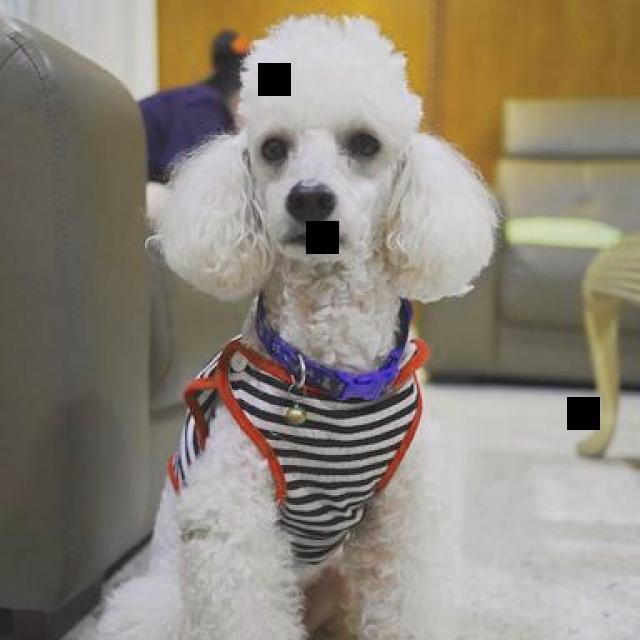adult_dog: (75, 11, 503, 640)
